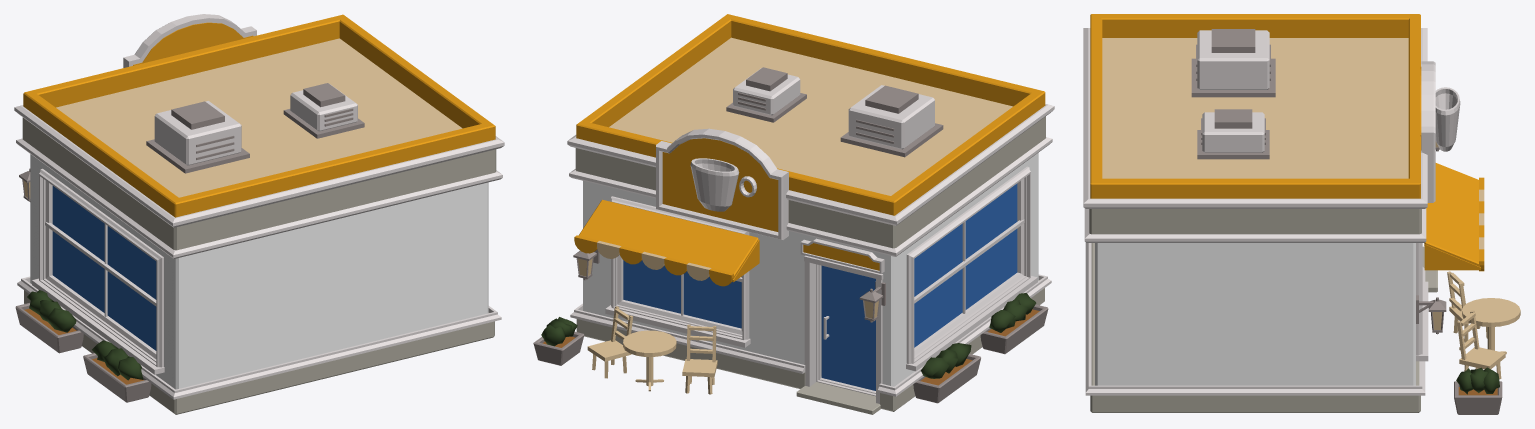
The model's file is BGStore002_JC.fbx.
3 renders of one model, left to right at view 1: azimuth 30°, elevation 25°; view 2: azimuth 150°, elevation 25°; view 3: azimuth 270°, elevation 25°, orthographic. The views are drawn at different scales.
Visible parts, largest first — view 1: BGStore002_JC; view 2: BGStore002_JC; view 3: BGStore002_JC.
Boxes of the visible parts, x1,y1,x2,y2 form: BGStore002_JC: [14, 14, 504, 414]; BGStore002_JC: [533, 14, 1054, 414]; BGStore002_JC: [1083, 14, 1520, 414].
Bounding box in the file's own units: 905 × 594 × 894.
1 material, 1 textured.
